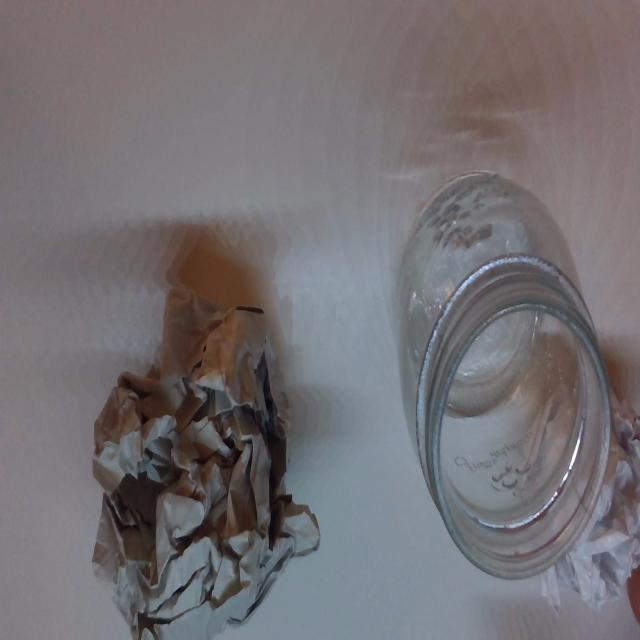Glass: (400, 176, 611, 582)
Paper: (89, 265, 323, 640)
